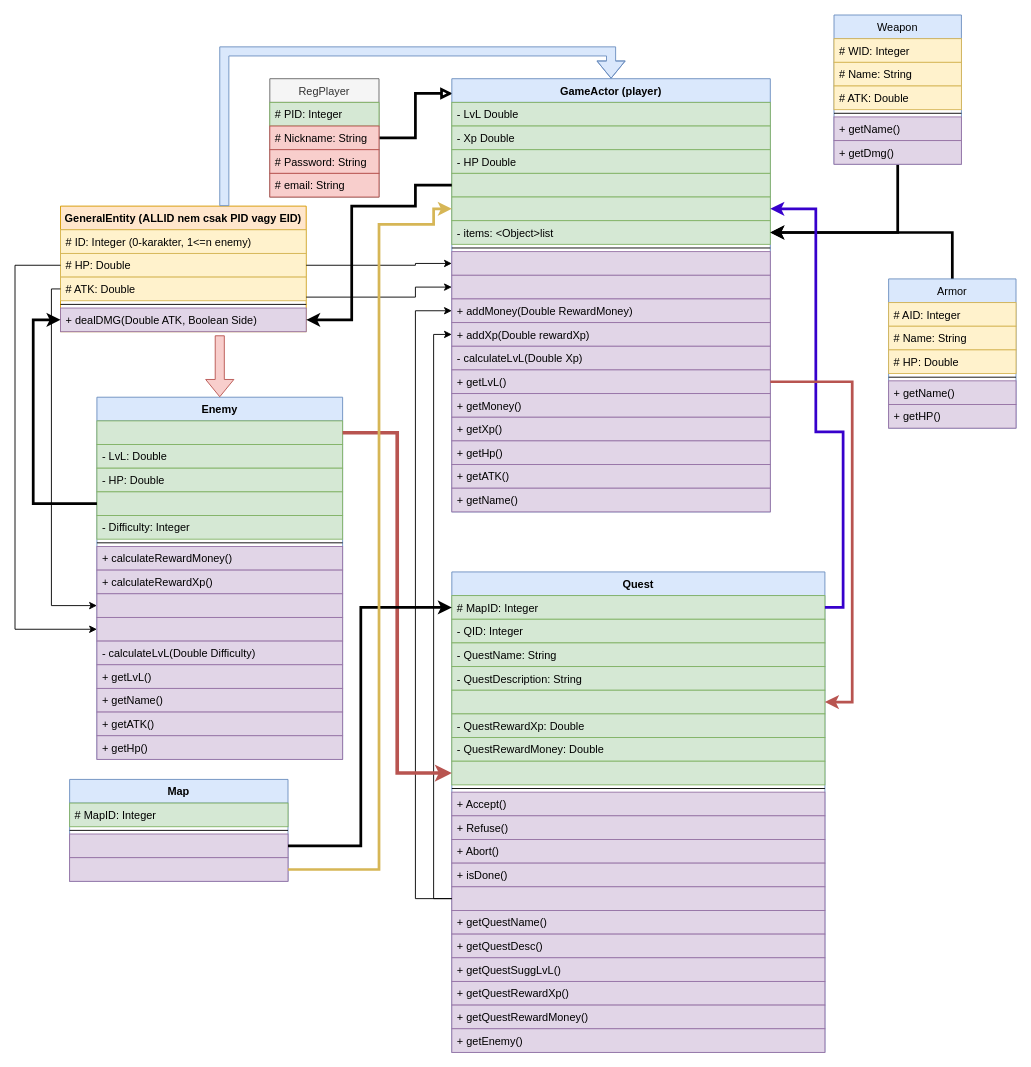
The diagram is 1031 pixels wide and 1067 high, and some of its shapes have lost their labels. The centre of each missing label's shape, as x and y in pixels:
# EID: Integer: (219,432)
+ getMapId(): (178,845)
+ Teleport(Integer MapID): (178,869)
- ATK Double: (610,184)
- ATK: Double: (219,503)
- calculateDMG(Double ATK, Double LvL): (219,605)
- calculateDMG(Double ATK, Double LvL, Double WATK): (610,286)
- calculateHP(Double HP, Double LvL): (219,629)
- calculateHP(Double HP, Double LvL, Double AHP): (610,263)
- Enemy: Obj: (638,772)
- giveReward(Double QuestRewardXp, Double QuestRewardMoney): (638,898)
- MapID: Integer: (610,208)
- QuestSuggestedLvL: Integer: (638,701)
